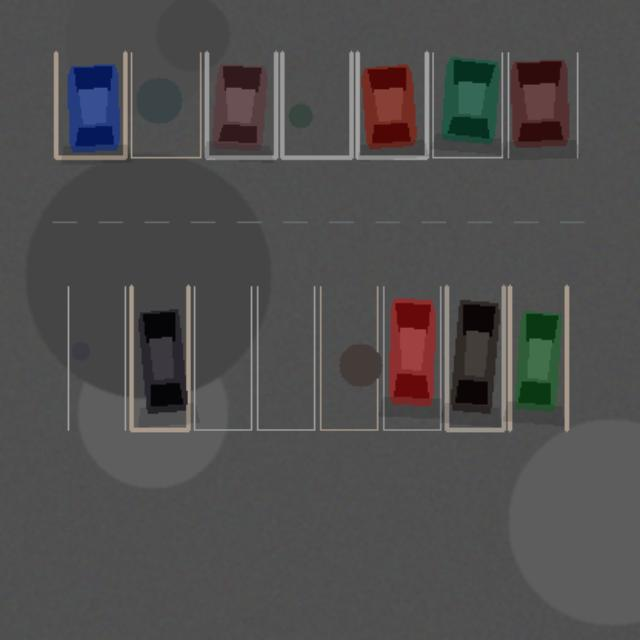space-empty: (68, 286, 125, 429), (194, 286, 251, 429), (257, 286, 314, 429), (320, 286, 377, 429), (131, 52, 200, 157), (282, 52, 351, 157)
space-occupied: (131, 286, 188, 429), (383, 286, 440, 429), (446, 286, 503, 429), (509, 286, 566, 429), (55, 52, 125, 157), (432, 52, 502, 157), (206, 52, 275, 157), (357, 52, 426, 157), (508, 52, 577, 157)
